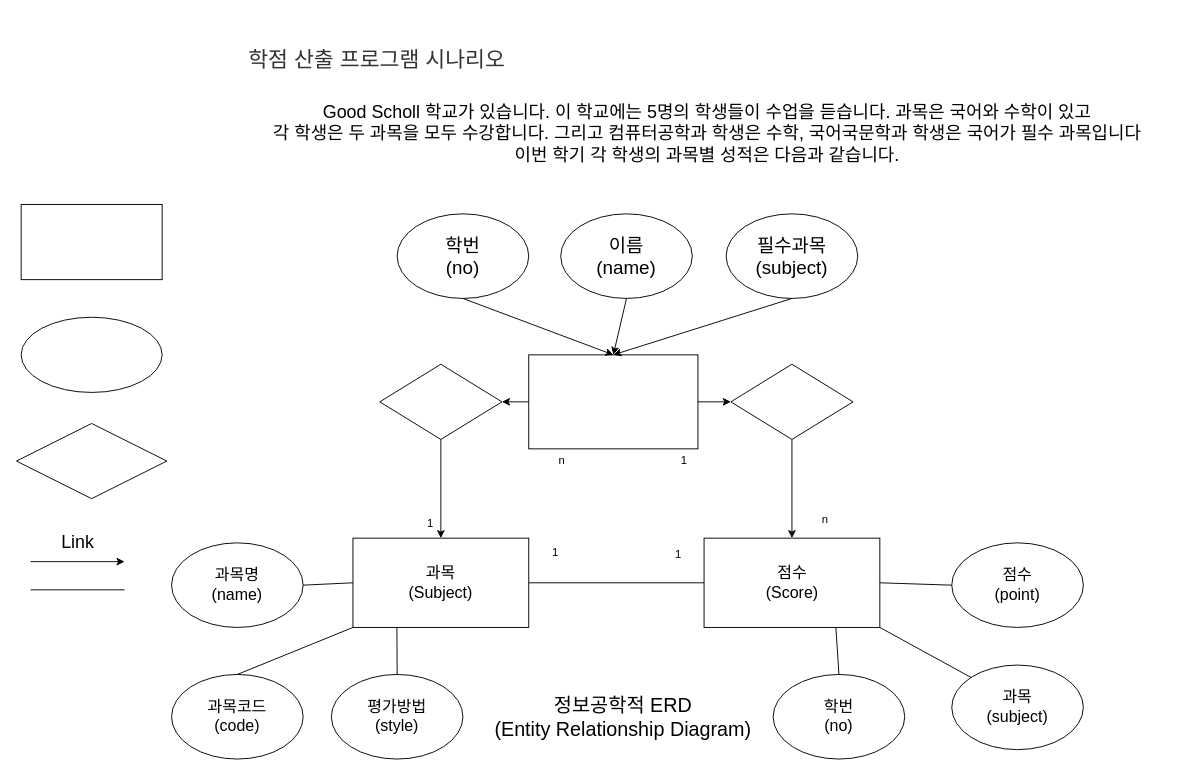
The diagram is 1194 pixels wide and 776 high, and some of its shapes have lost their labels. Each missing label, with the box of its shape:
Attribute: (20, 316, 162, 392)
Entity: (20, 204, 162, 280)
Relation: (16, 423, 167, 499)
수강: (379, 363, 502, 439)
응시: (730, 363, 853, 439)
학생 (Student): (528, 354, 698, 449)
